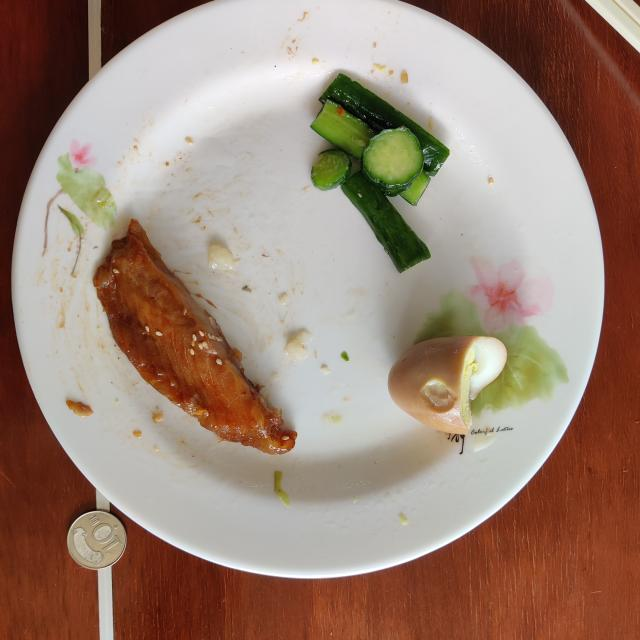Kabayaki sea bream fillet: (94, 219, 298, 454)
coin: (68, 510, 126, 569)
cucumber: (311, 74, 449, 272)
soy egg: (388, 336, 508, 435)
